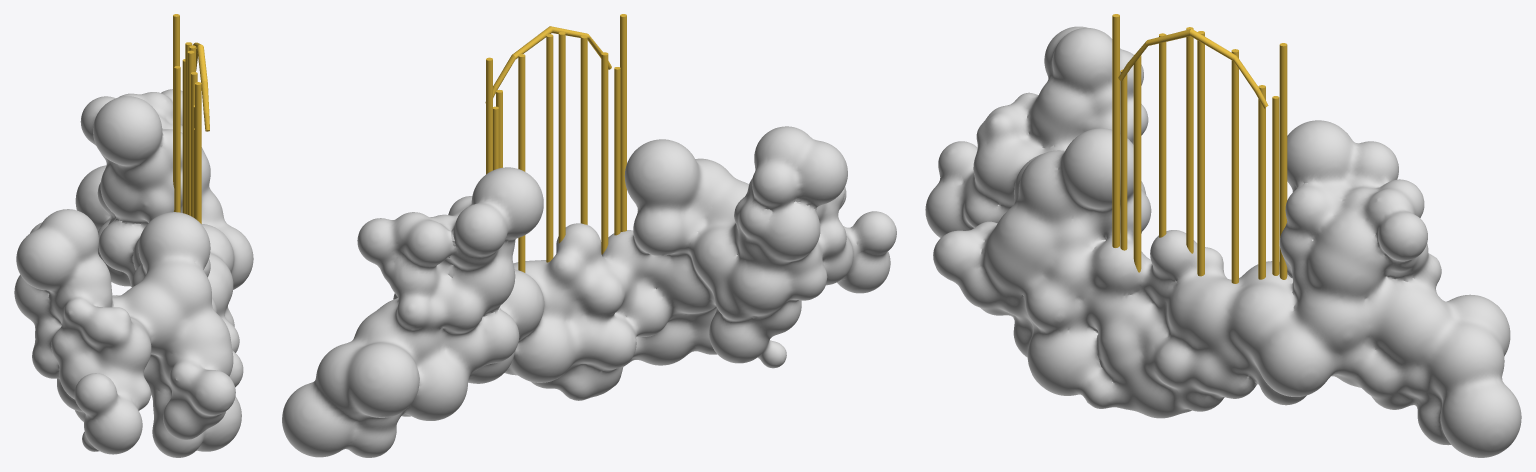
3 renders of one model, left to right at view 1: azimuth 30°, elevation 25°; view 2: azimuth 150°, elevation 25°; view 3: azimuth 270°, elevation 25°, orthographic. The views are drawn at different scales.
Parts seen in each view (by area): view 1: Sphere.151; view 2: Sphere.151; view 3: Sphere.151.
Part boxes in pixels (x1,y1,x2,y2): Sphere.151: (14, 14, 253, 457); Sphere.151: (282, 14, 896, 457); Sphere.151: (925, 14, 1521, 457).
Size of the model in its own units: 2125 by 2054 by 2790.
